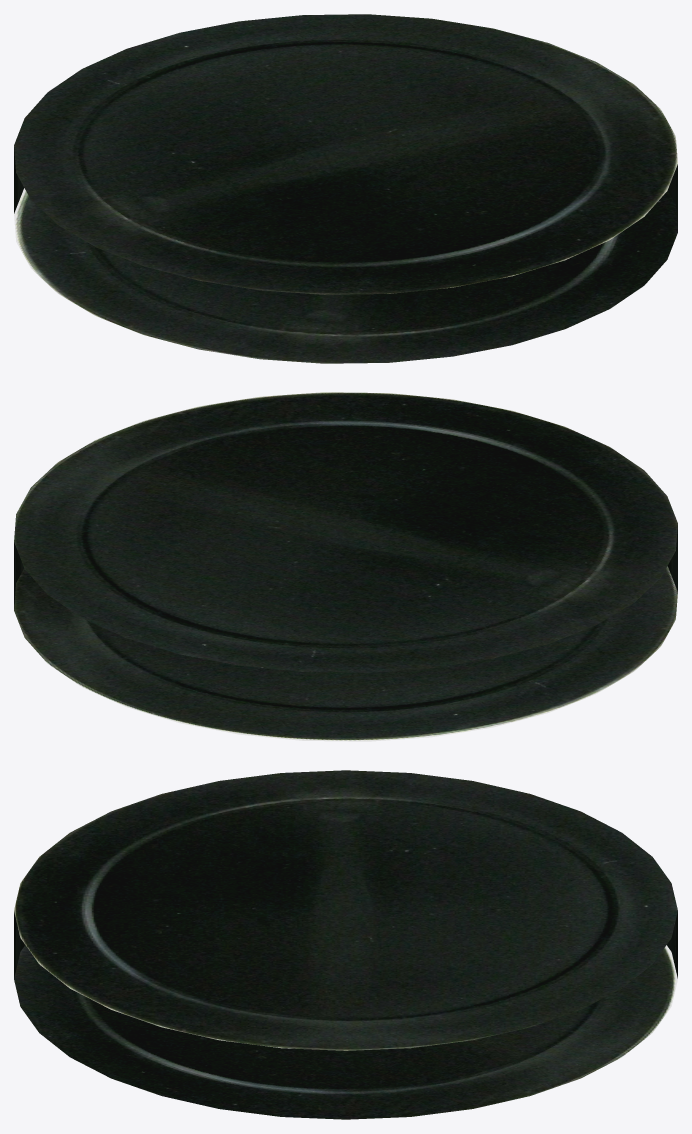
Rendered from puck.obj.
3 renders of one model, top to bottom at view 1: azimuth 30°, elevation 25°; view 2: azimuth 150°, elevation 25°; view 3: azimuth 270°, elevation 25°, orthographic.
Parts seen in each view (by area): view 1: Cylinder; view 2: Cylinder; view 3: Cylinder.
Part boxes in pixels (x1=…): Cylinder: x1=14, y1=14, x2=677, y2=363; Cylinder: x1=14, y1=392, x2=677, y2=741; Cylinder: x1=14, y1=770, x2=677, y2=1119.
Bounding box in the file's own units: 1.5 × 0.1714 × 1.5.
2 materials, 2 textured.
